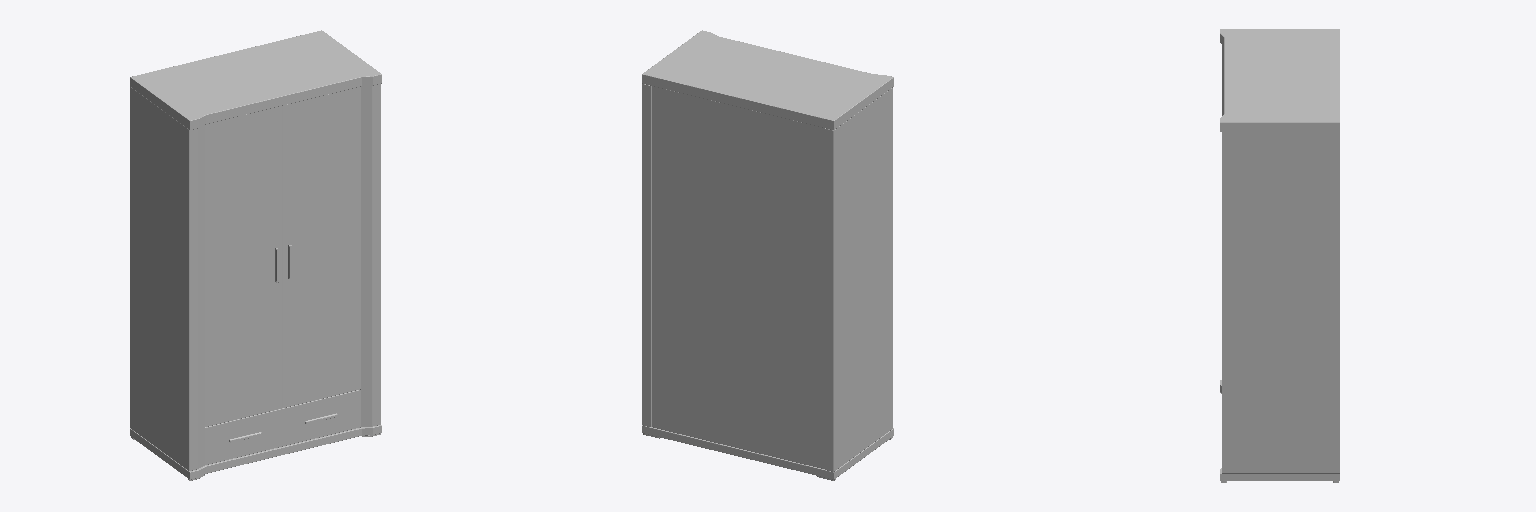
The model's file is lemari.obj.
3 renders of one model, left to right at view 1: azimuth 30°, elevation 25°; view 2: azimuth 150°, elevation 25°; view 3: azimuth 270°, elevation 25°, orthographic.
Visible parts, largest first — view 1: Wardrobe; view 2: Wardrobe; view 3: Wardrobe.
Part boxes in pixels (left/top/right/bottom): Wardrobe: left=130, top=30, right=381, bottom=480; Wardrobe: left=642, top=30, right=893, bottom=480; Wardrobe: left=1220, top=29, right=1339, bottom=482.
Size of the model in its own units: 1.07 by 1.92 by 0.5794.